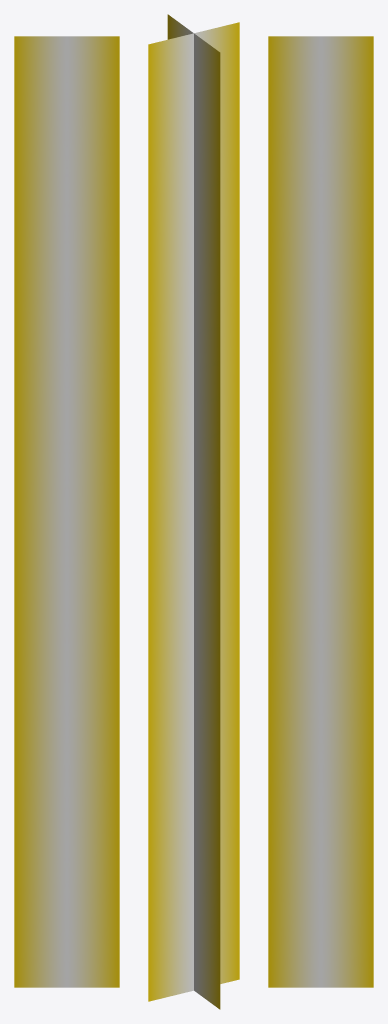
The model's file is BulletTrail.fbx.
3 renders of one model, left to right at view 1: azimuth 90°, elevation 25°; view 2: azimuth 210°, elevation 25°; view 3: azimuth 270°, elevation 25°, orthographic.
Visible parts, largest first — view 1: Trail; view 2: Trail; view 3: Trail.
Part boxes in pixels (x1,y1,x2,y2): Trail: (14,36,119,987); Trail: (148,14,239,1009); Trail: (268,36,373,987).
Size of the model in its own units: 10 by 100 by 10.
Materials: 1 (1 with a texture image).
